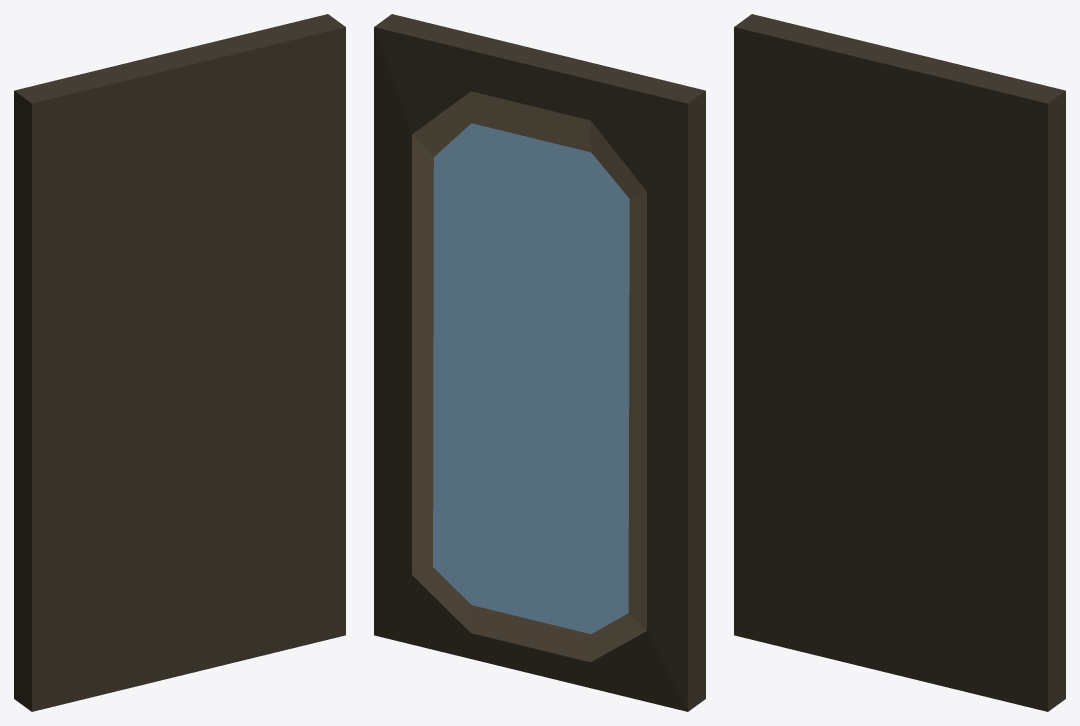
Rendered from DoorB.fbx.
3 renders of one model, left to right at view 1: azimuth 30°, elevation 25°; view 2: azimuth 150°, elevation 25°; view 3: azimuth 330°, elevation 25°, orthographic.
Parts seen in each view (by area): view 1: DoorB; view 2: DoorB; view 3: DoorB.
Boxes of the visible parts, x1=… form: DoorB: x1=14, y1=14, x2=345, y2=711; DoorB: x1=374, y1=14, x2=705, y2=711; DoorB: x1=734, y1=14, x2=1065, y2=711.
Bounding box in the file's own units: 133 × 247 × 13.96.
